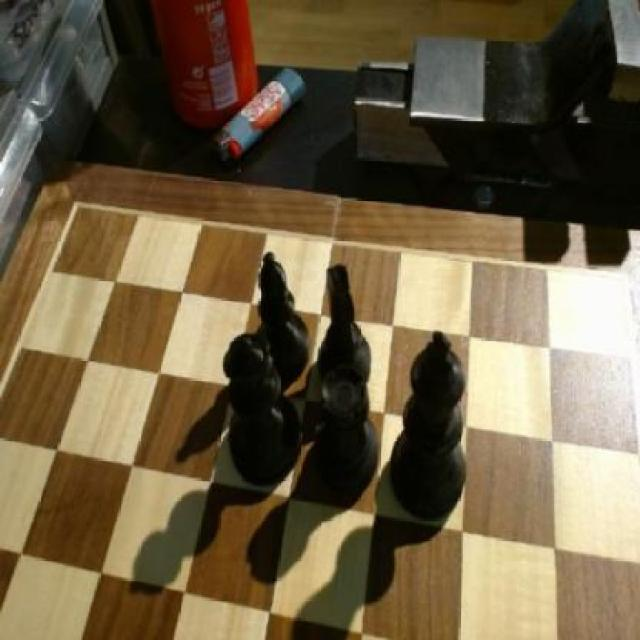bishop: (254, 250, 312, 378)
black-bishop: (389, 328, 475, 524)
black-king: (314, 255, 378, 394)
black-pawn: (222, 332, 306, 487)
black-queen: (308, 362, 386, 491)
